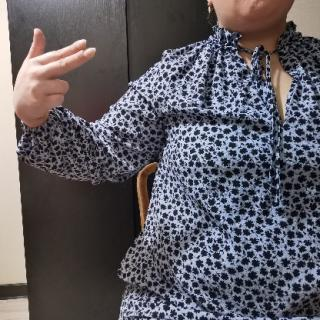GHAYN: (12, 22, 102, 124)
